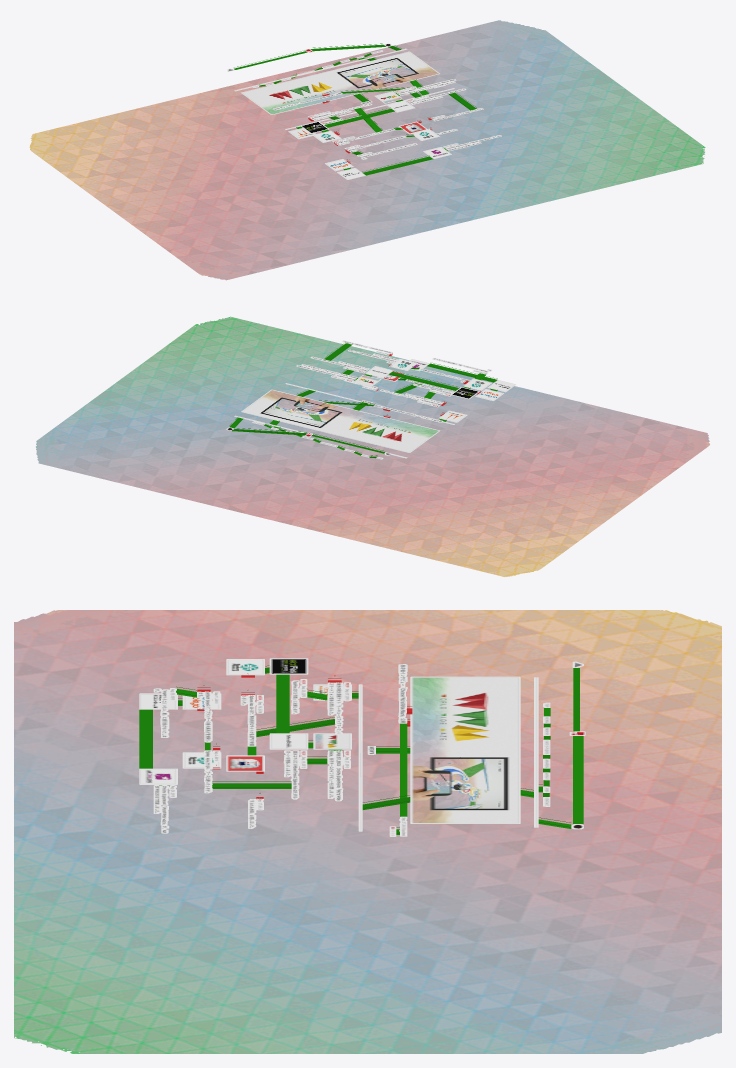
File: stage.dae
The picture shows the model from 3 angles, top to bottom: view 1: azimuth 30°, elevation 25°; view 2: azimuth 150°, elevation 25°; view 3: azimuth 270°, elevation 25°; orthographic projection. The views are drawn at different scales.
Parts seen in each view (by area): view 1: Ocean, top, bridges; view 2: Ocean, top, bridges; view 3: Ocean, top, bridges.
Boxes of the visible parts, x1,y1,x2,y2 form: Ocean: (29, 20, 705, 280); top: (227, 43, 501, 179); bridges: (234, 43, 476, 175); Ocean: (36, 316, 709, 576); top: (226, 340, 516, 459); bridges: (229, 342, 497, 458); Ocean: (14, 610, 721, 1053); top: (139, 658, 585, 836); bridges: (139, 665, 583, 834).
Bounding box in the file's own units: 905 × 610 × 99.57.
Materials: 4 (2 with a texture image).
